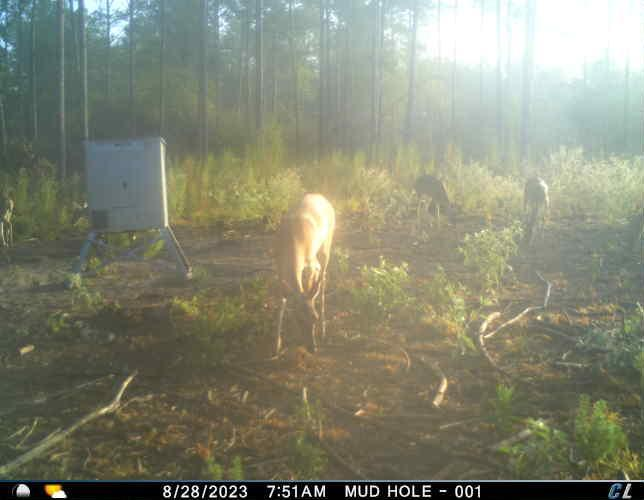Deer: (265, 188, 337, 355), (413, 174, 455, 228), (522, 172, 555, 234), (0, 190, 17, 249)
